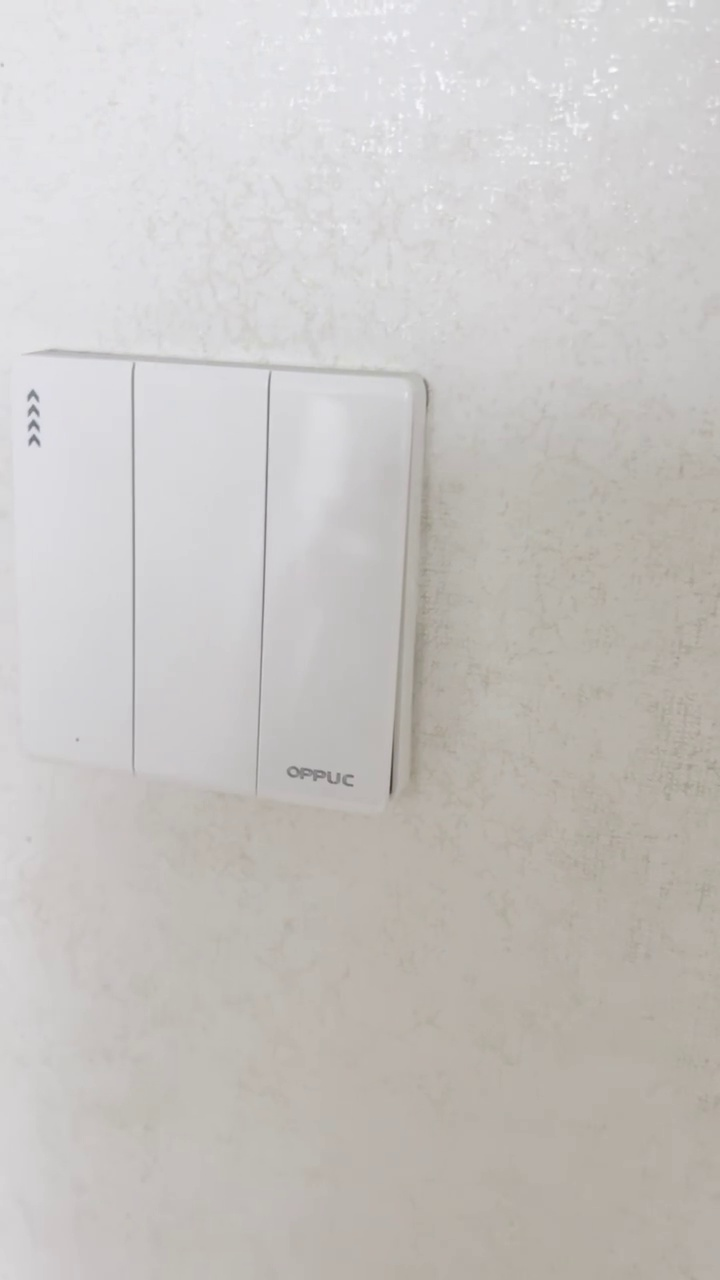button1: (263, 370, 405, 796), (137, 365, 258, 778), (20, 360, 131, 754)
